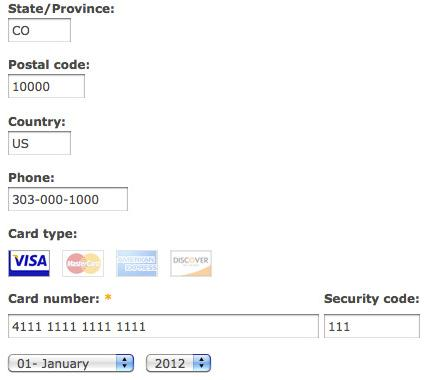field: (6, 312, 320, 341), (7, 184, 130, 213), (5, 350, 136, 376), (322, 311, 423, 339), (7, 73, 89, 101), (5, 16, 75, 46), (7, 129, 76, 157), (142, 352, 215, 374)
field_with_label: (4, 293, 321, 343), (5, 171, 132, 215), (4, 2, 116, 49), (323, 292, 425, 340), (5, 59, 94, 102), (6, 116, 79, 158)
